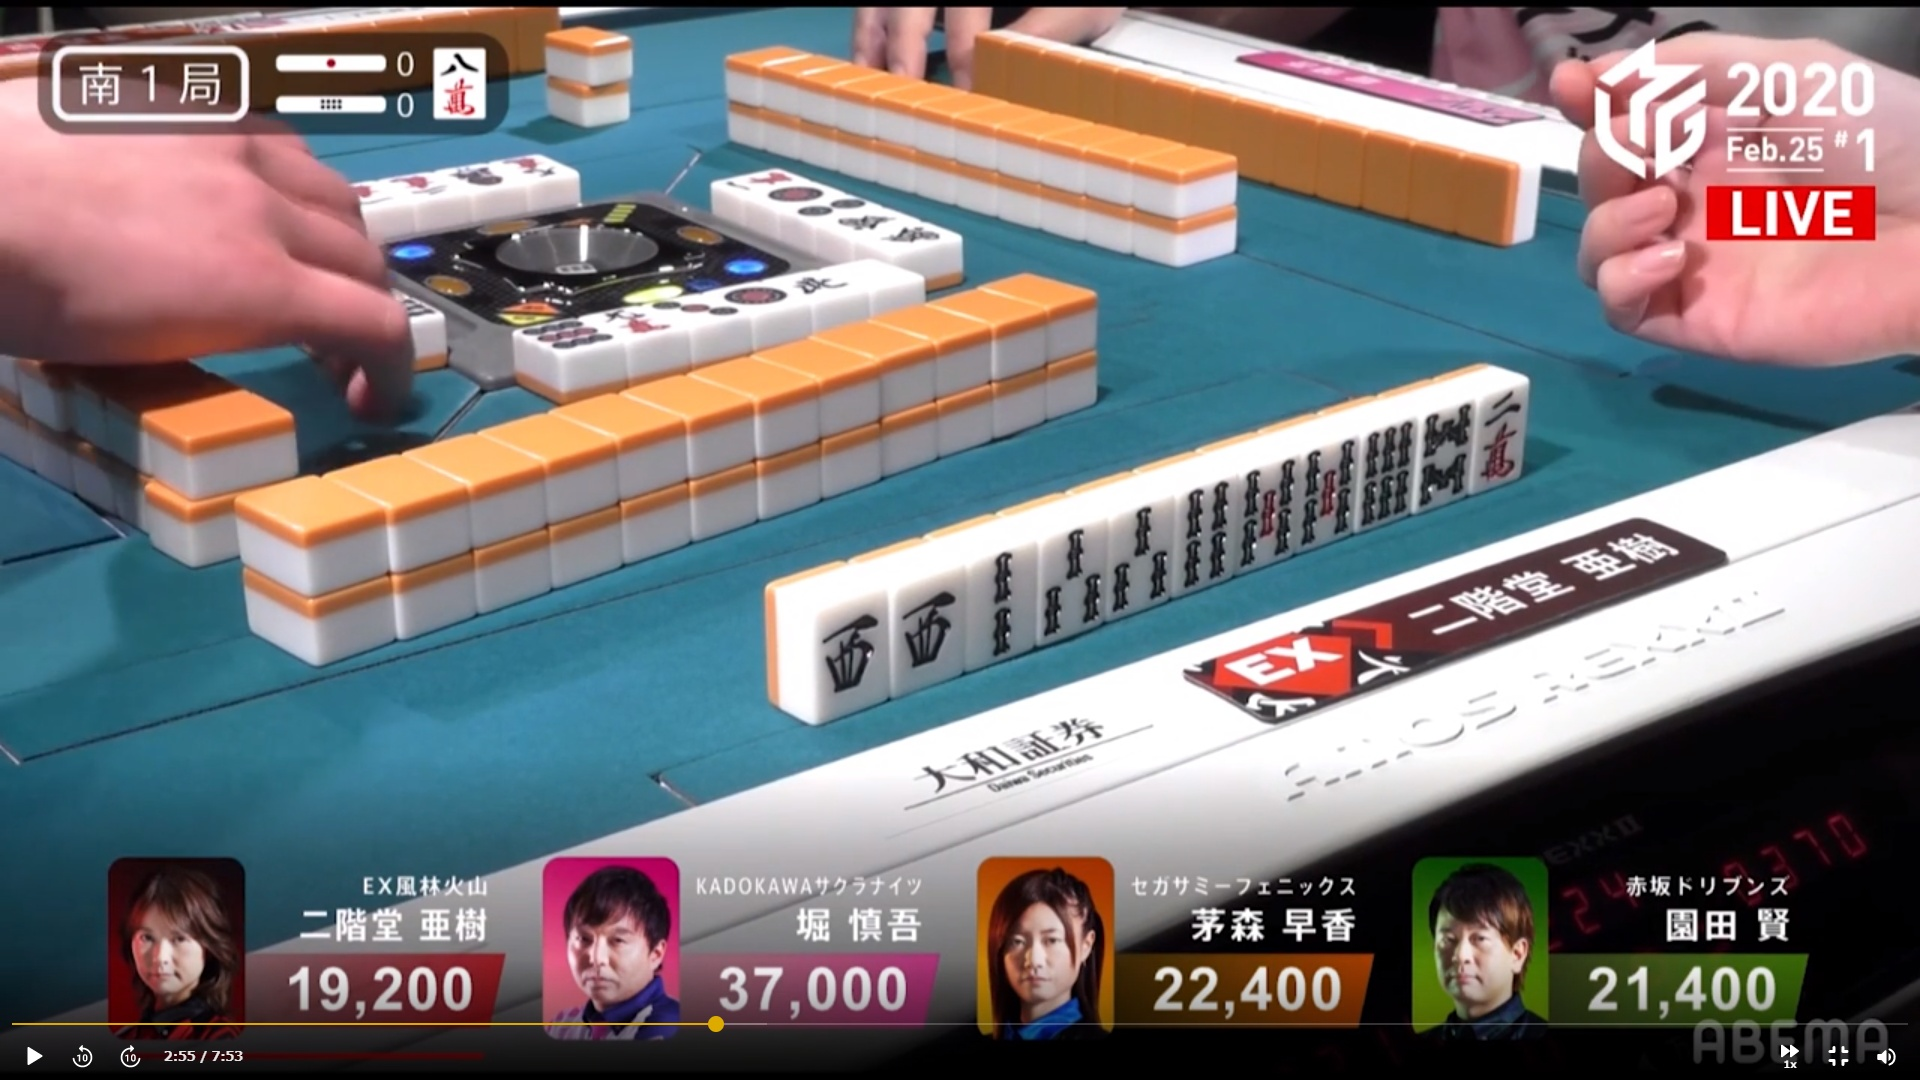2m: (1472, 384, 1524, 491)
2s: (968, 546, 1029, 663)
3s: (1035, 521, 1109, 638), (1108, 493, 1171, 618)
4s: (1175, 475, 1228, 591)
5s: (1296, 433, 1354, 549), (1234, 456, 1292, 568)
6s: (1358, 415, 1411, 531)
8s: (1411, 400, 1472, 505)
hand_nan_1: (42, 37, 255, 123)
round_0: (264, 87, 423, 124)
sha: (884, 567, 967, 684), (818, 588, 885, 709)
team_exfurinkazan: (1179, 601, 1436, 724)
